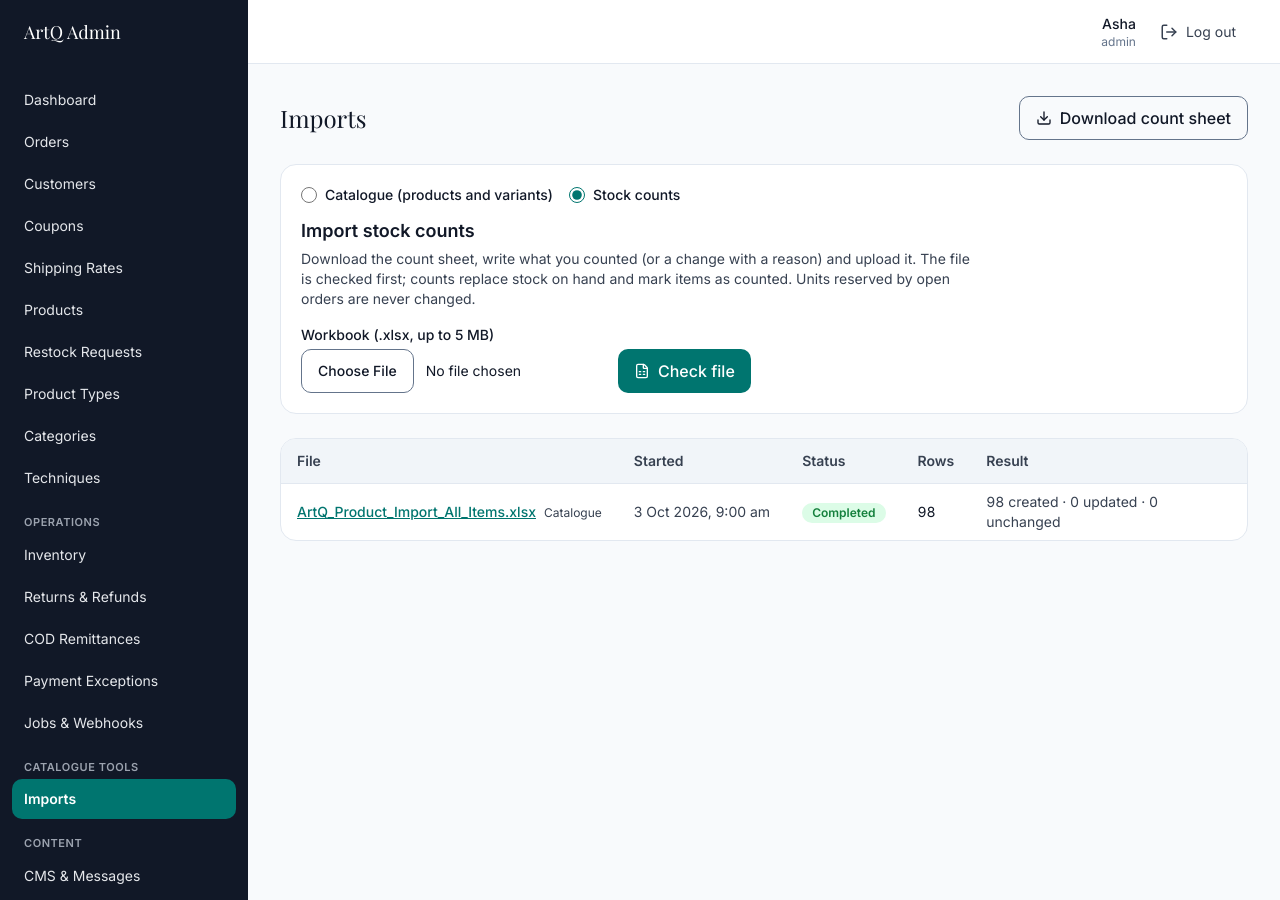
Test: Imports list › ADMIN chooses catalogue or stock counts; ?kind=INVENTORY preselects counts
This screenshot has width=1280, height=900.
Expected: the heading "Import stock counts" is shown, [301,220,475,241]
Click the radio button labelled "Catalogue (products and variants)" at (309, 195), box [301,187,317,203]
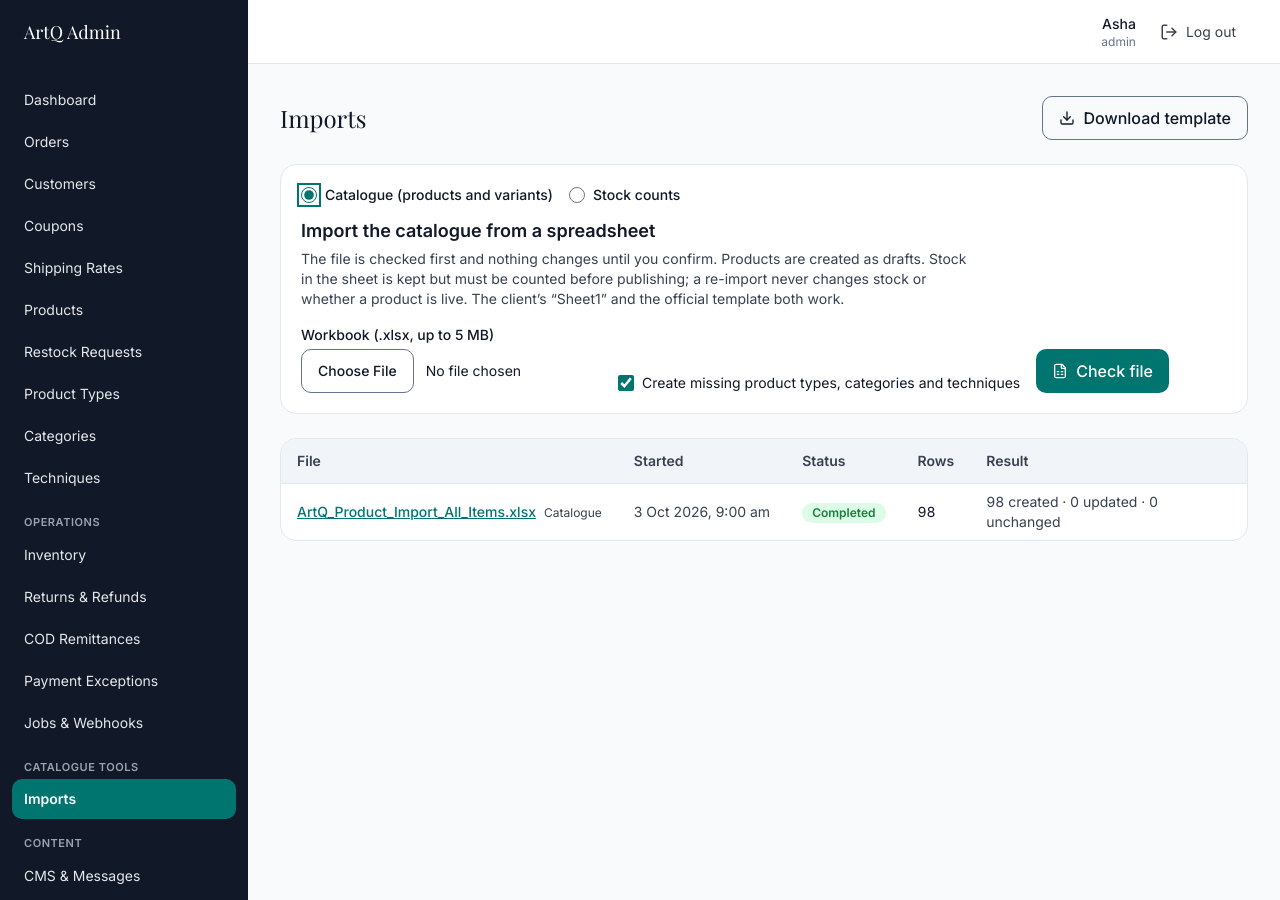
Result: the heading "Import the catalogue from a spreadsheet" is shown at [301,220,655,241]
Result: the checkbox labelled "Create missing product types, categories and techniques" is shown at [618,375,634,391]
